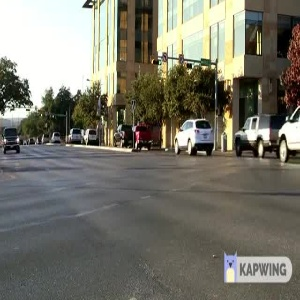suv: (227, 114, 286, 161), (163, 119, 218, 157), (1, 125, 28, 158)
